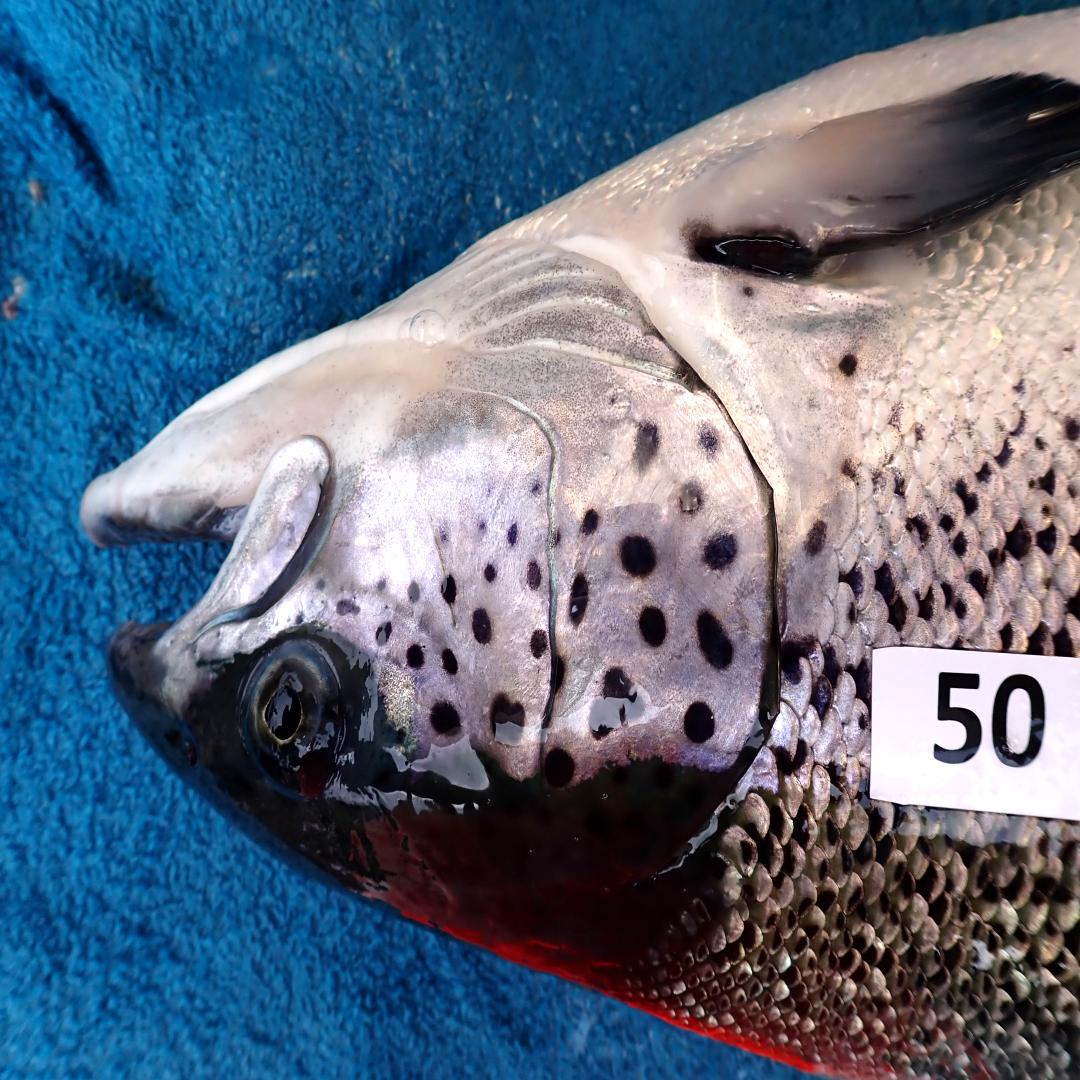roi: (332, 230, 779, 786)
